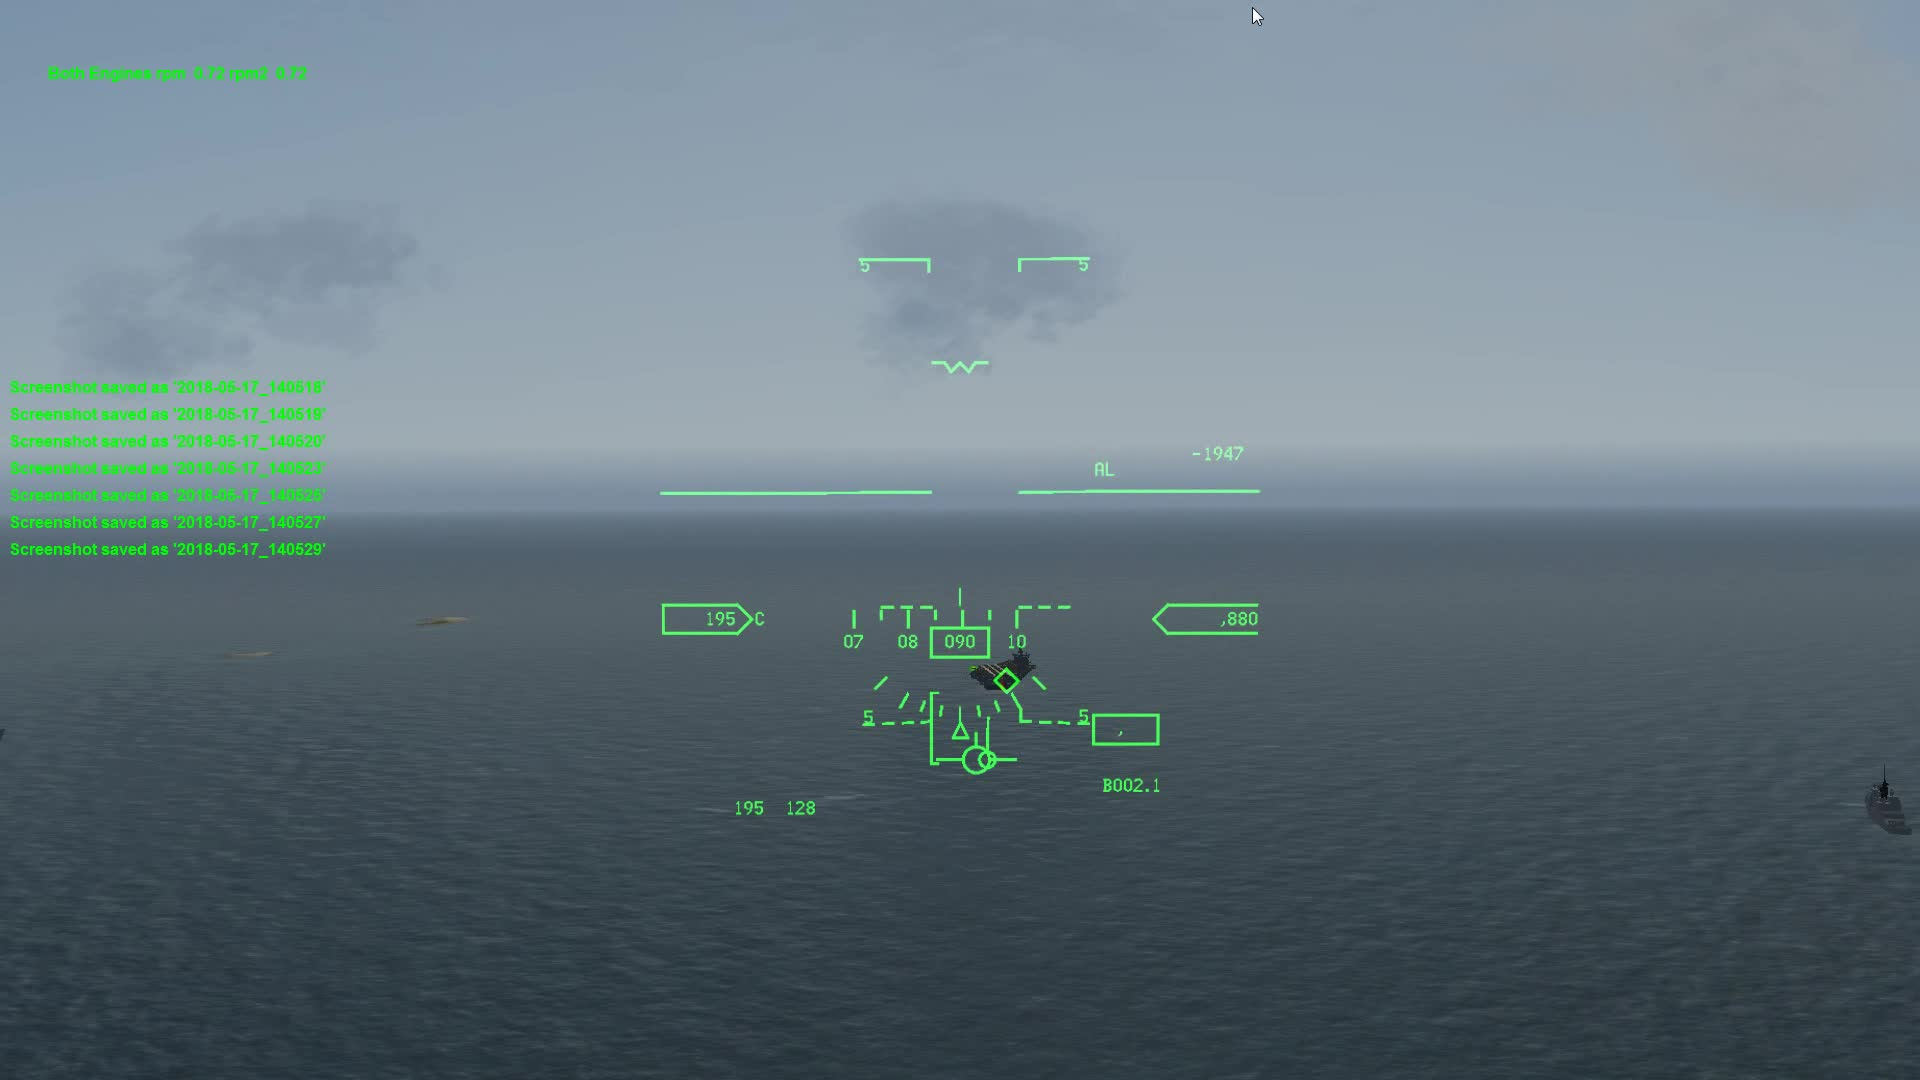speed vector: (934, 738, 1029, 783)
